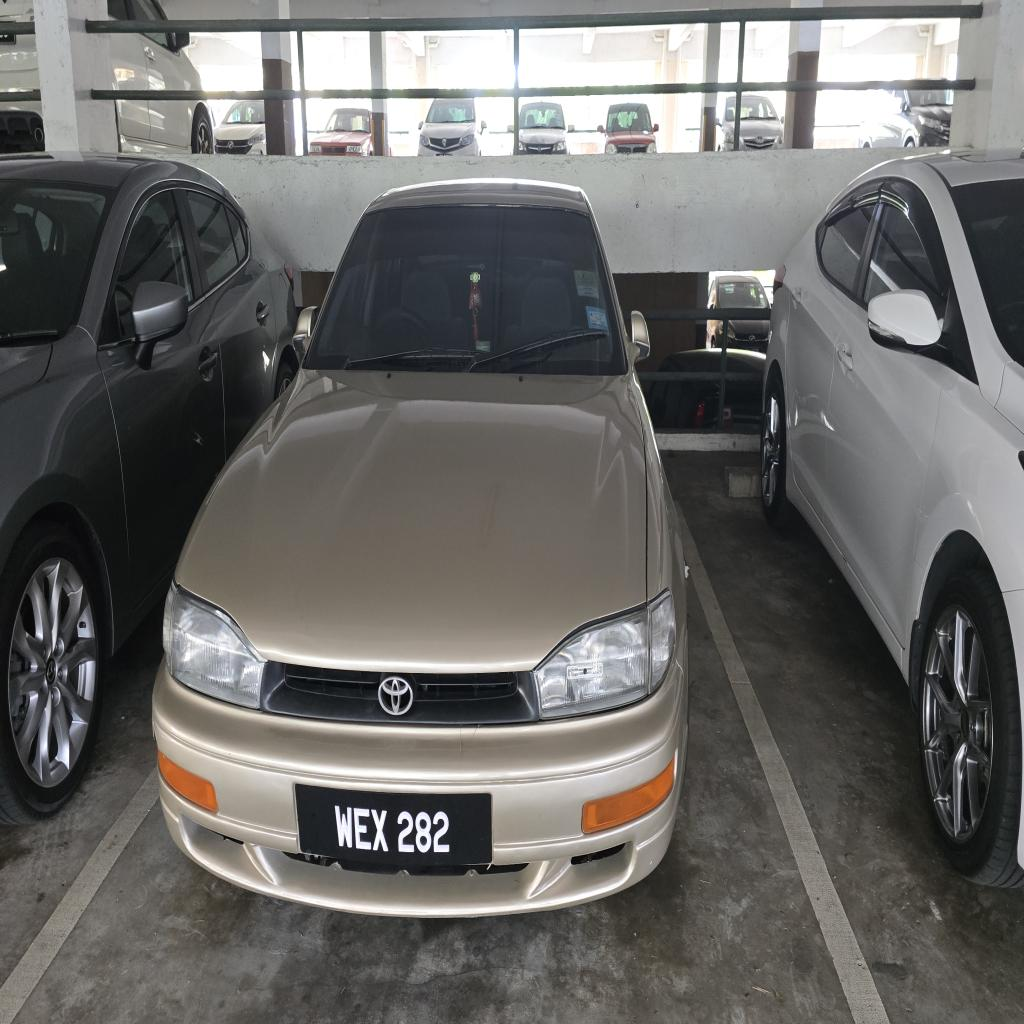car: (154, 181, 688, 916)
car plate: (296, 784, 492, 866)
